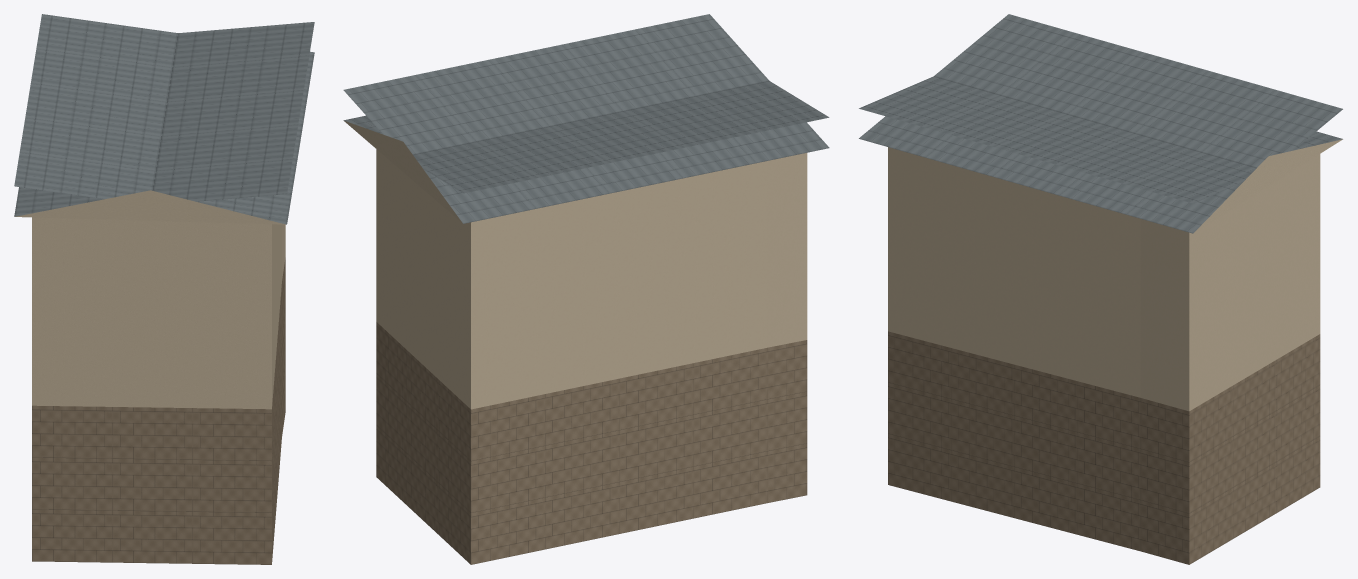
Rendered from bld_c9_43_510.gltf.
3 renders of one model, left to right at view 1: azimuth 30°, elevation 25°; view 2: azimuth 150°, elevation 25°; view 3: azimuth 270°, elevation 25°, orthographic.
Visible parts, largest first — view 1: bld_c9_43_510; view 2: bld_c9_43_510; view 3: bld_c9_43_510.
Boxes of the visible parts, x1,y1,x2,y2 form: bld_c9_43_510: (14,14,314,564); bld_c9_43_510: (343,14,829,564); bld_c9_43_510: (859,14,1342,564).
Bounding box in the file's own units: 13.5 × 12.5 × 14.6.
Materials: 4 (4 with a texture image).
